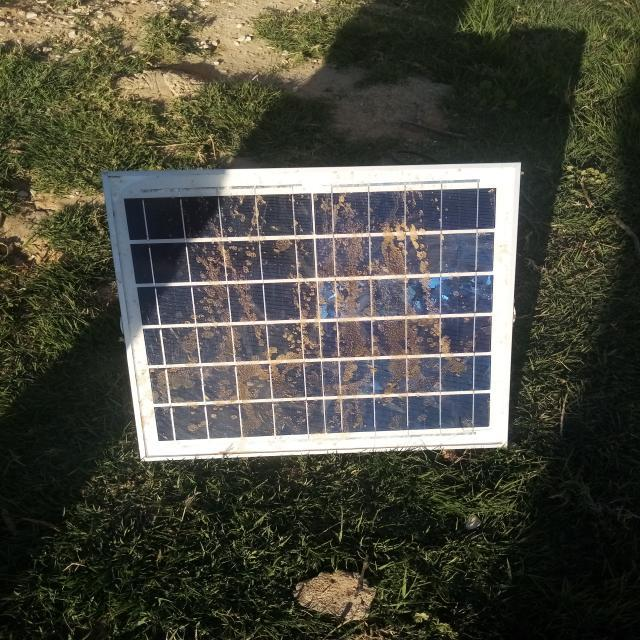faulty: (107, 165, 519, 460)
